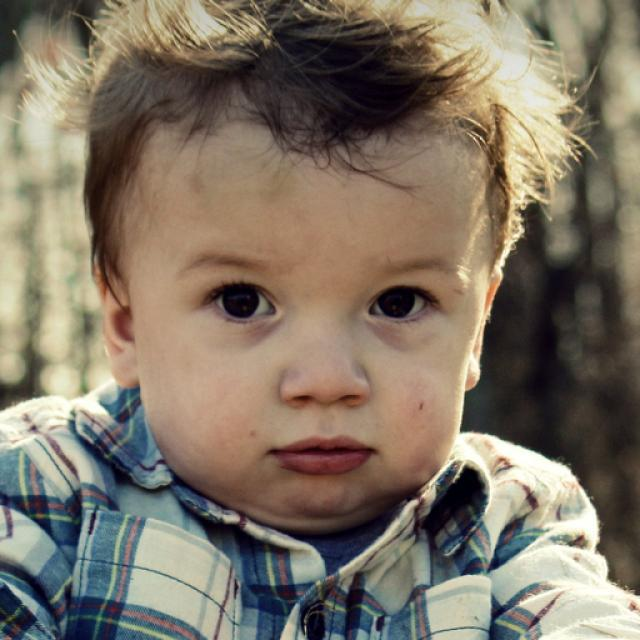neutral: (134, 124, 478, 520)
